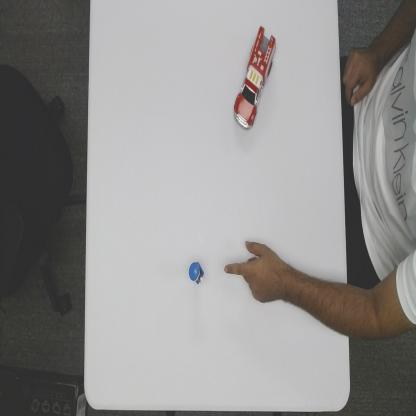Arm: (285, 265, 346, 341)
Firetruck: (233, 23, 277, 131)
Hand: (224, 238, 285, 304)
